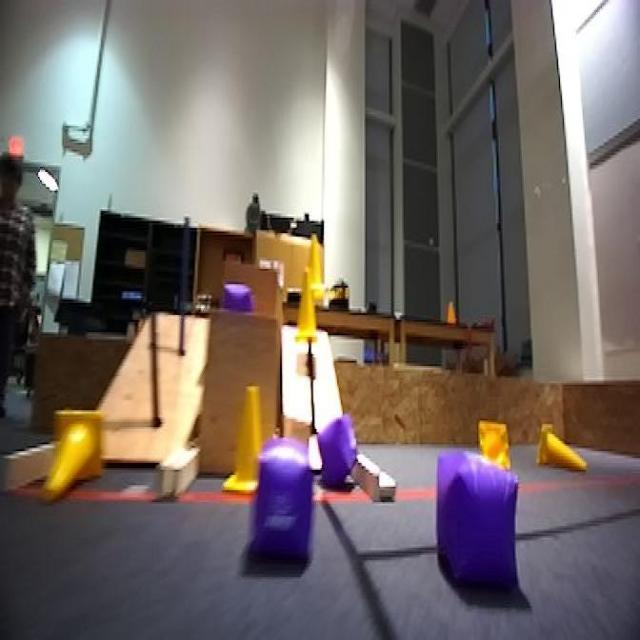frc_cone: (232, 378, 292, 504), (49, 410, 104, 504), (537, 427, 587, 472), (472, 421, 512, 466), (295, 288, 324, 349), (304, 233, 326, 303)
frc_cube: (436, 454, 518, 590), (248, 436, 308, 575), (309, 409, 357, 490), (221, 286, 254, 318)
